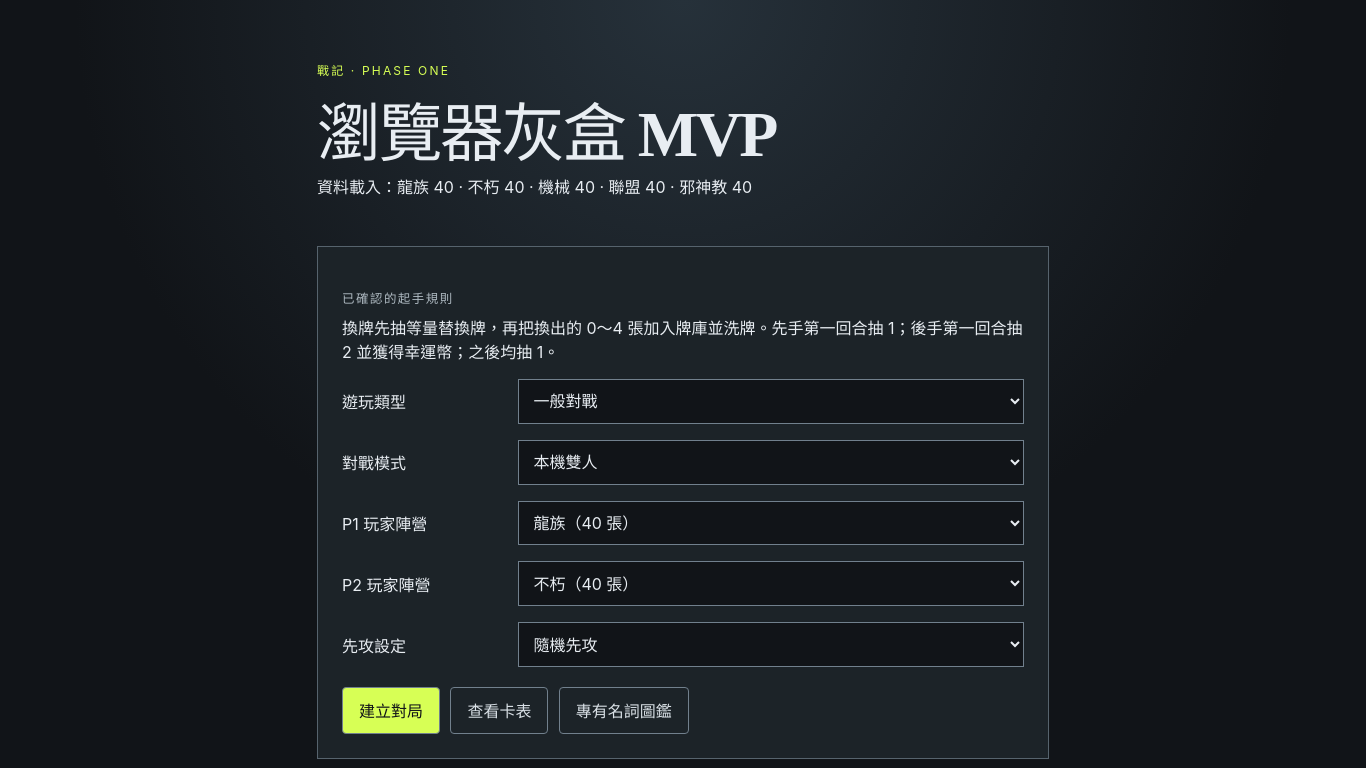
Scenario: 瀏覽器入口流程 › 效果篇將死亡之聲與戰吼拆成兩個獨立小關
This screenshot has width=1366, height=768.
Select "新手教學" in the dropdown labelled "遊玩類型": (771, 401) [518,379,1024,424]
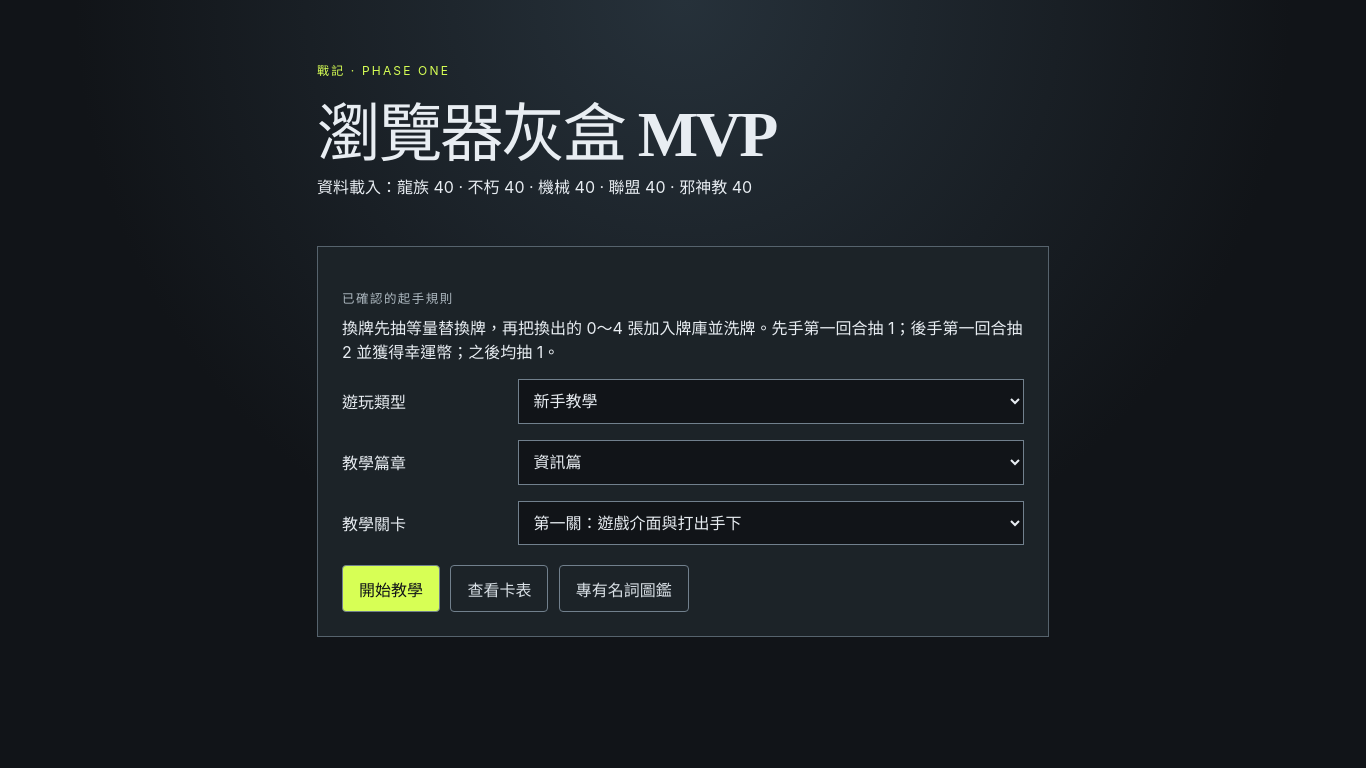
Select "效果篇" in the dropdown named "教學篇章": (771, 462) [518,440,1024,485]
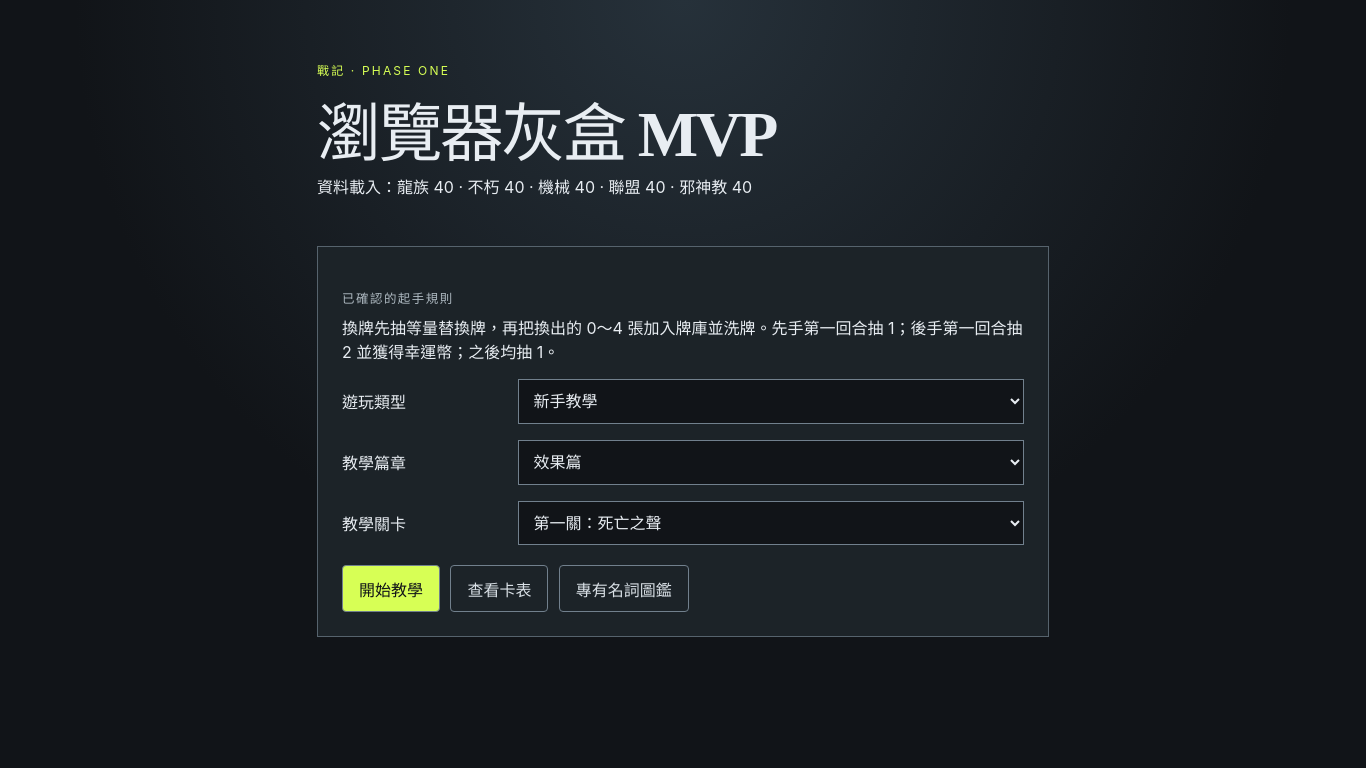
Click the button "開始教學": (391, 589) [342,565,440,612]
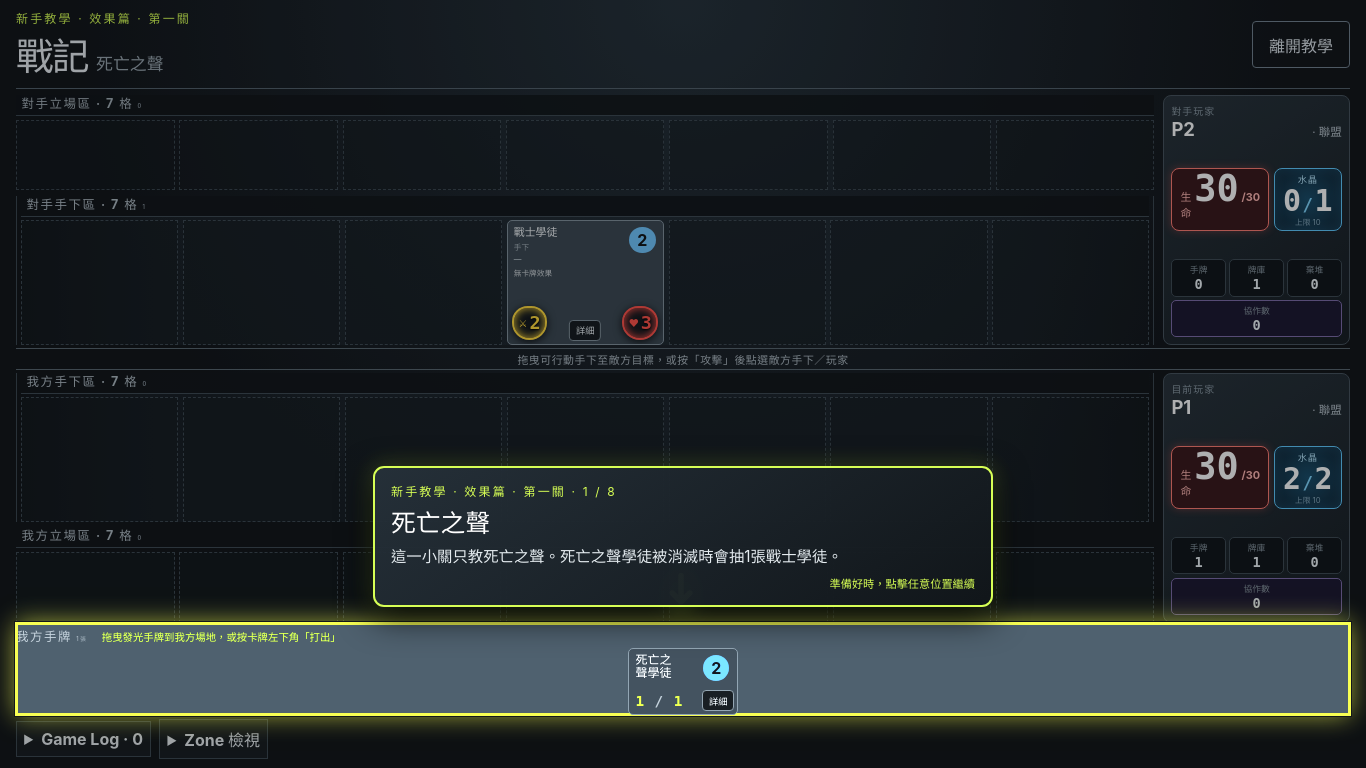
Now the text "新手教學 · 效果篇 · 第一關" is shown, box [16,9,191,26]
Now the text "這一小關只教死亡之聲" is shown, box [391,547,843,566]
Now the text "死亡之聲學徒" is shown, box [635,652,671,680]
